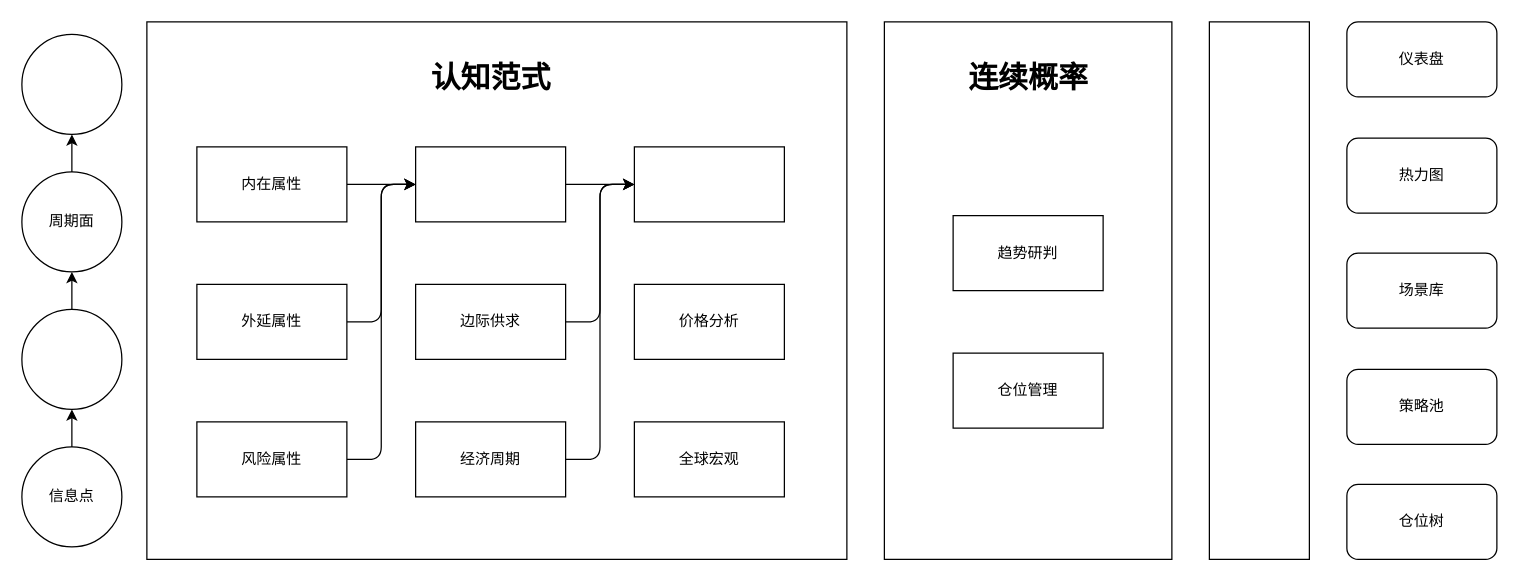
Some shapes in this 1519 by 581 pixel diagram are drawn without their labels. The shapes that lost their labels are listed below. From the top down, each one's centre as x and y in pixels, then its label:
At [71,83]: "结构化".
At [490,184]: "价值中枢".
At [708,184]: "基本面量化".
At [1258,290]: "贝叶斯更新".
At [71,358]: "逻辑线".
